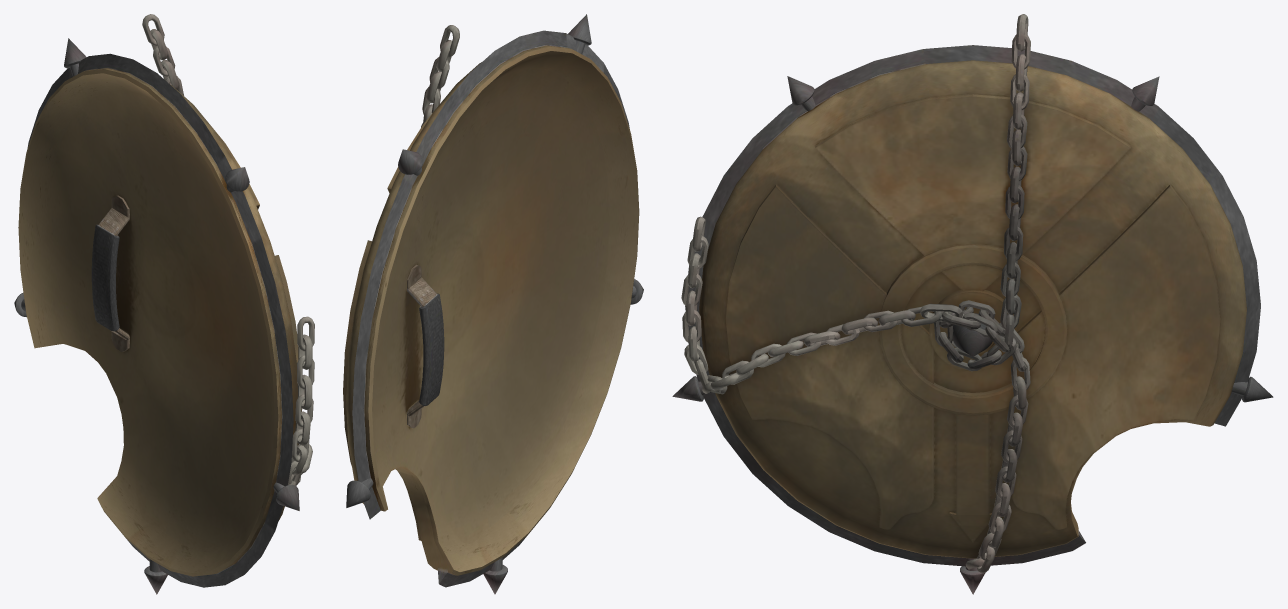
Rendered from shield_gold.glb.
3 renders of one model, left to right at view 1: azimuth 30°, elevation 25°; view 2: azimuth 150°, elevation 25°; view 3: azimuth 270°, elevation 25°, orthographic. The views are drawn at different scales.
Visible parts, largest first — view 1: defaultMaterial; view 2: defaultMaterial; view 3: defaultMaterial.
Part boxes in pixels (bbox=[...]): defaultMaterial: bbox=[14, 14, 314, 594]; defaultMaterial: bbox=[343, 14, 643, 594]; defaultMaterial: bbox=[672, 14, 1273, 594].
Size of the model in its own units: 0.1978 by 1 by 0.9258.
Materials: 1 (1 with a texture image).
